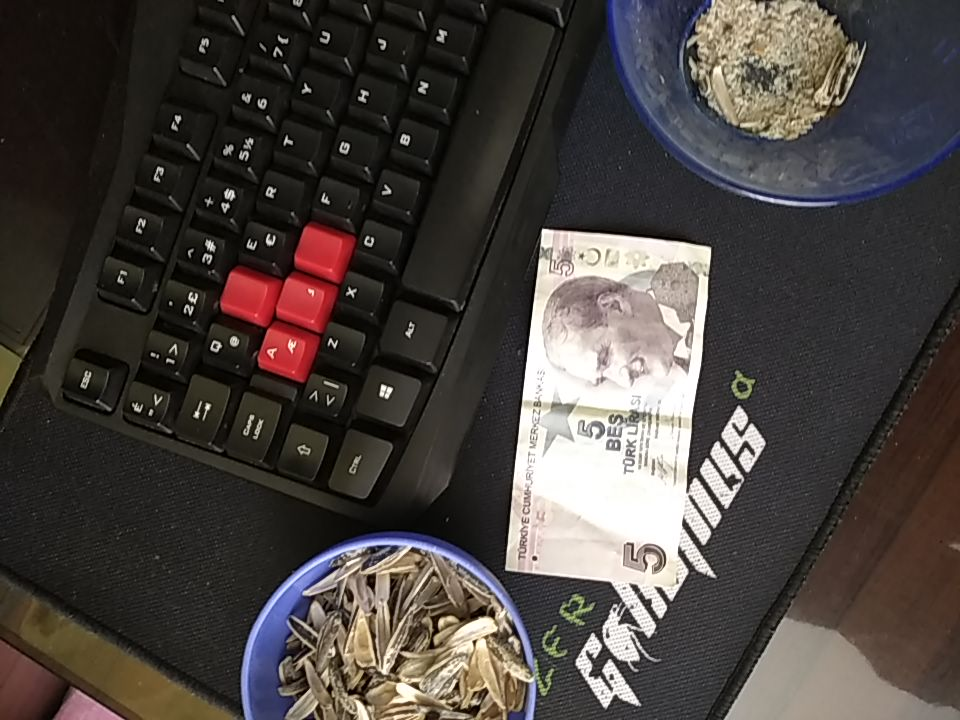5TL: (502, 228, 713, 591)
